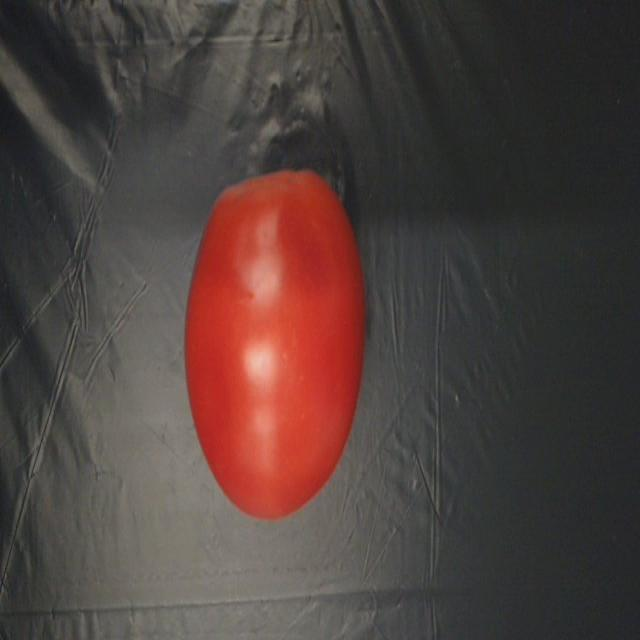kirmizi: (180, 160, 369, 530)
